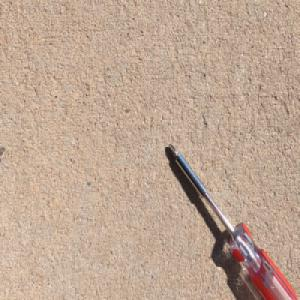Screwdriver: (167, 140, 299, 300)
